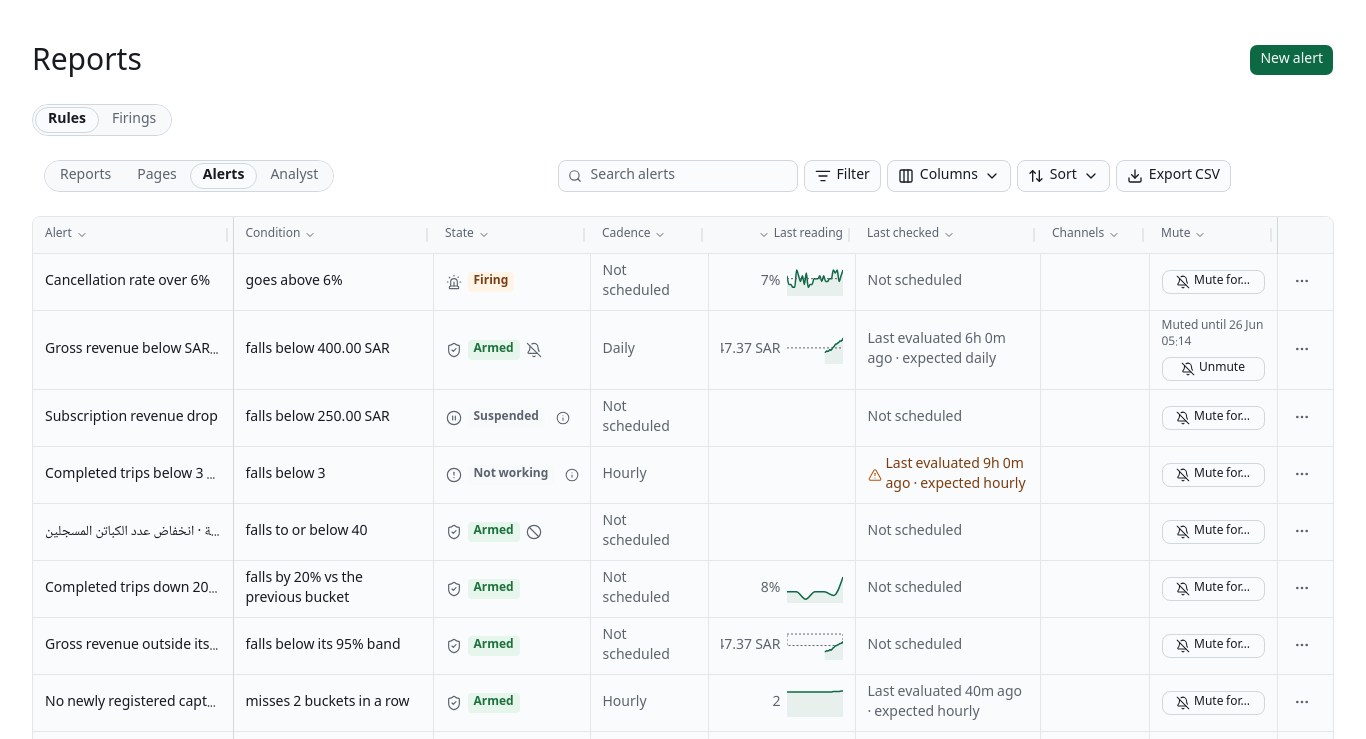
Test: a rule ships with its firings › opens the history and lists every seeded firing of that rule
Expected: the row that starts with "Cancellation rate over 6%" is shown, [33,254,1333,310]
Click the button named "More actions": (1302, 280) [1290,268,1314,292]
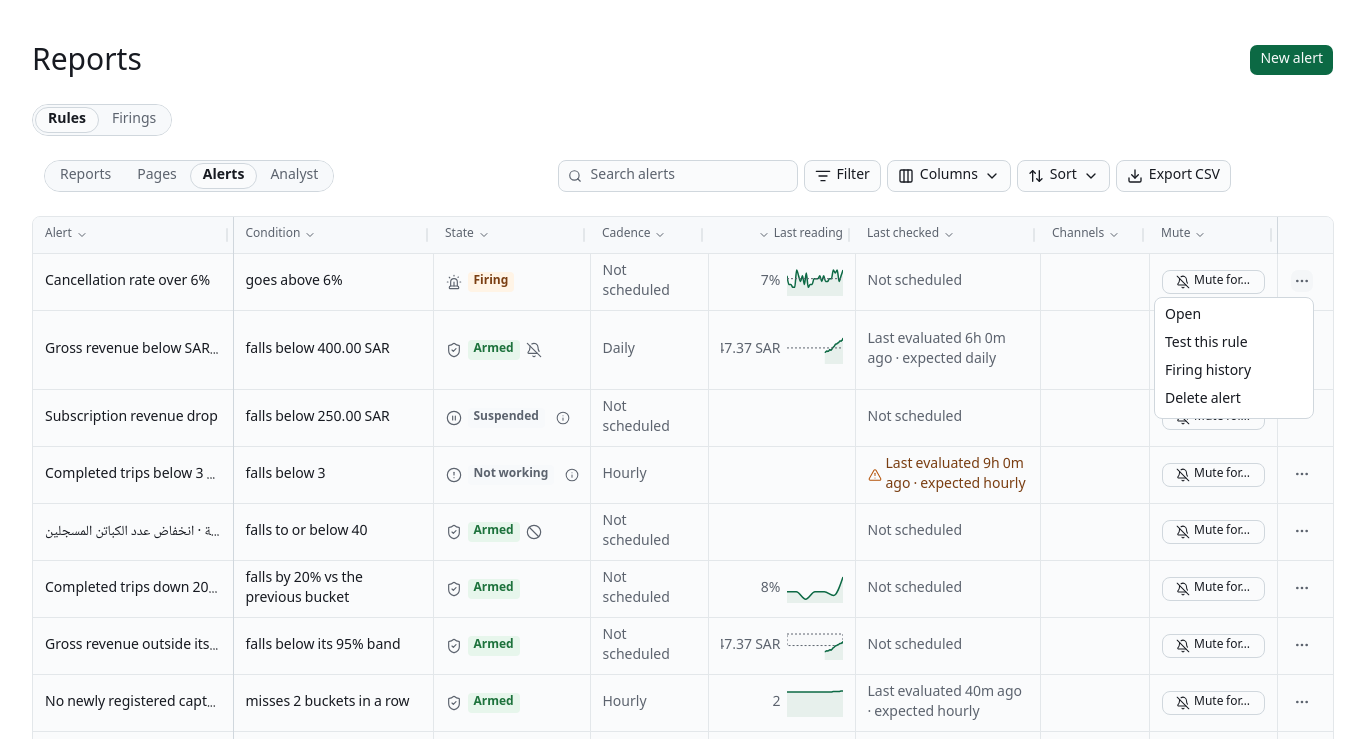
Click the menu item "Firing history": (1208, 372) [1165,360,1251,384]
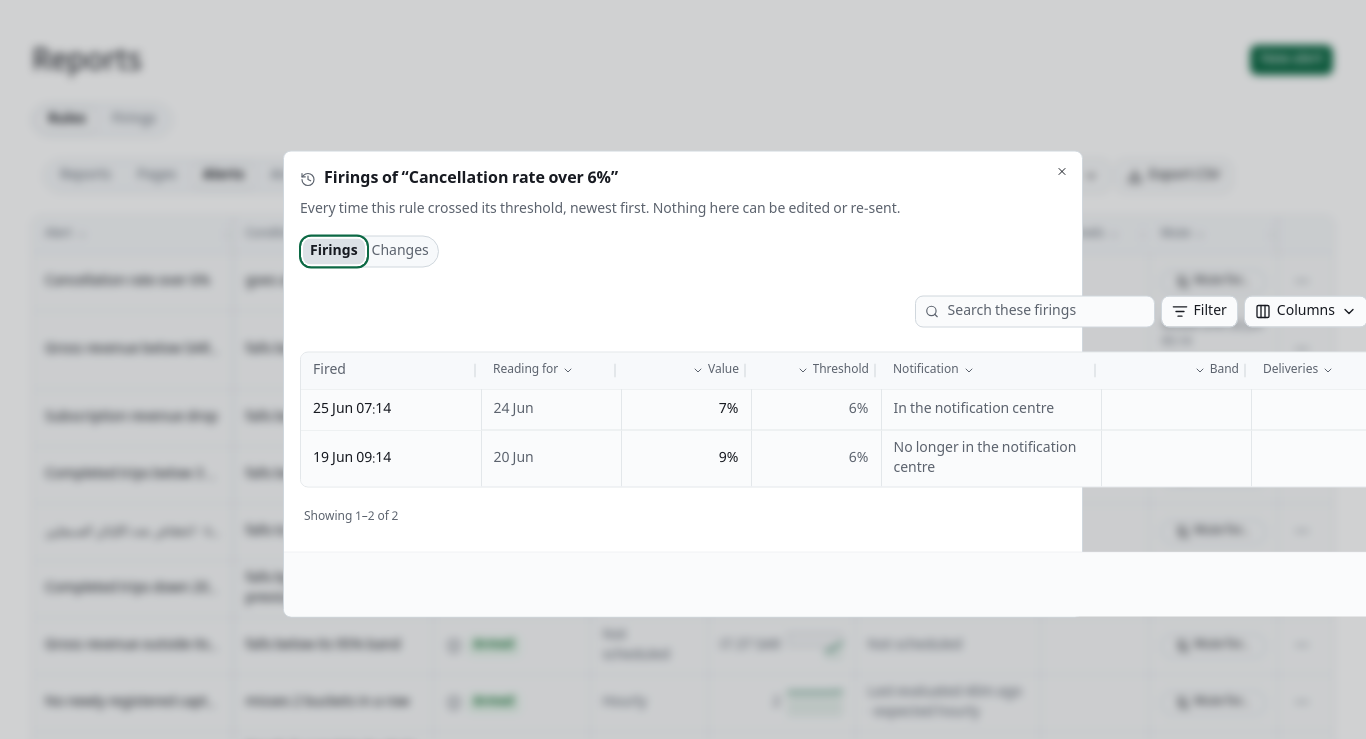
Now the heading shows "Cancellation rate over 6%", box [324,166,618,192]
